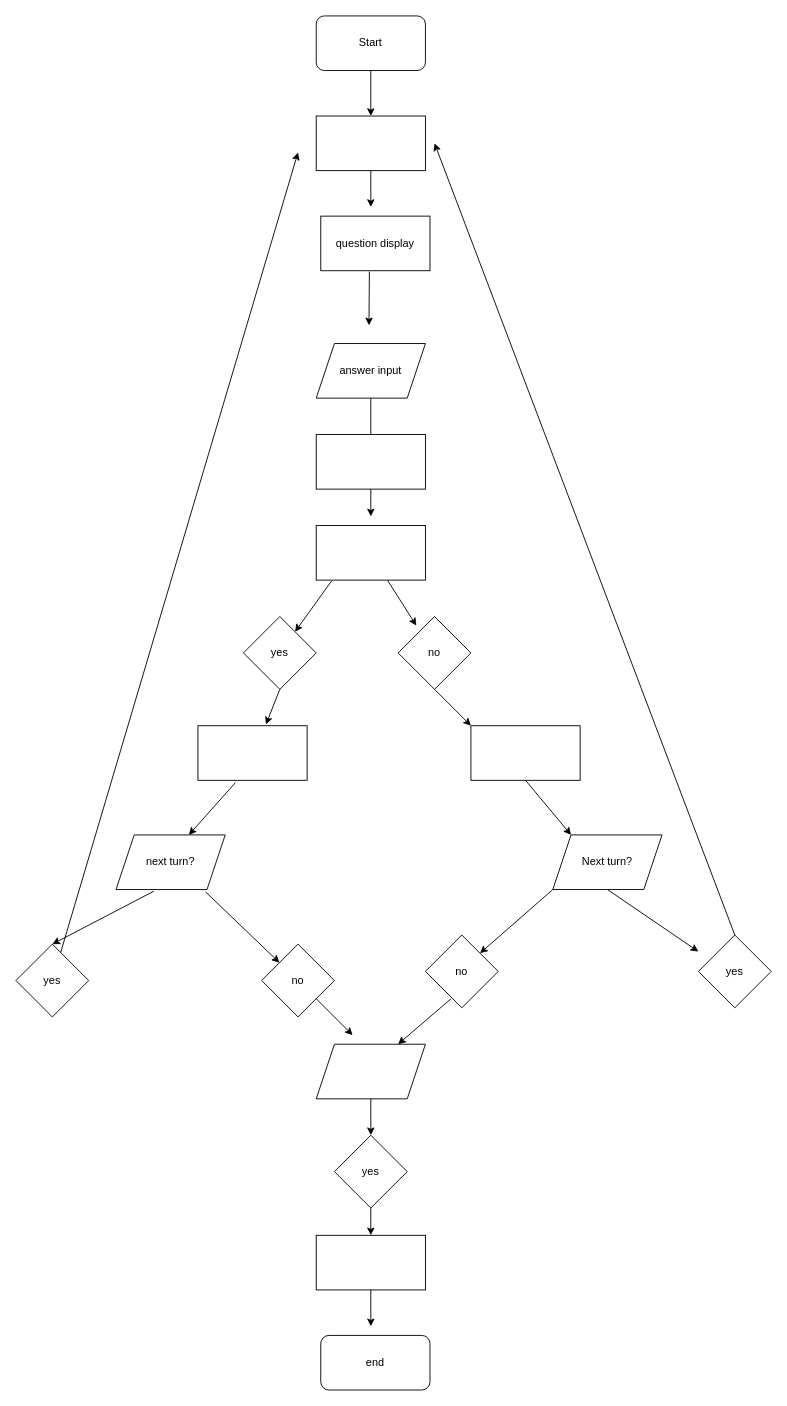
Some shapes in this 787 by 1406 pixel diagram are drawn without their labels. The centre of each missing label's shape, as x and y in pixels:
"add points to score" belongs at pixel 252 752.
"category selection" belongs at pixel 370 143.
"check answer" belongs at pixel 370 461.
"display final score" belongs at pixel 370 1262.
"End game?" belongs at pixel 370 1071.
"its answer correct?" belongs at pixel 370 552.
"subtract points to score" belongs at pixel 525 752.
